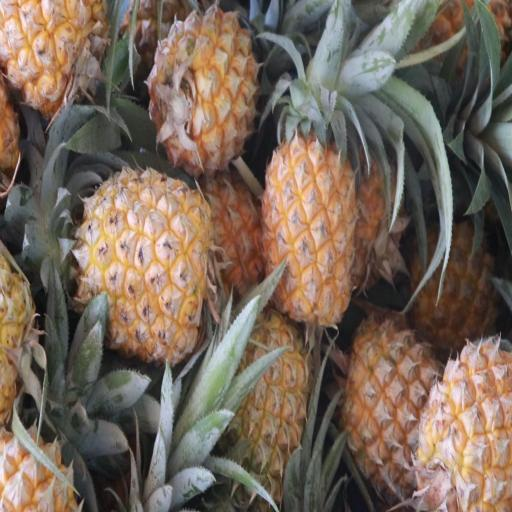------------------------------: (344, 324, 444, 500)
Pineapple - v8 v1: (83, 169, 210, 358), (262, 130, 358, 326), (419, 336, 512, 512), (151, 10, 254, 168), (224, 317, 309, 474), (0, 0, 112, 112), (416, 218, 500, 336)
